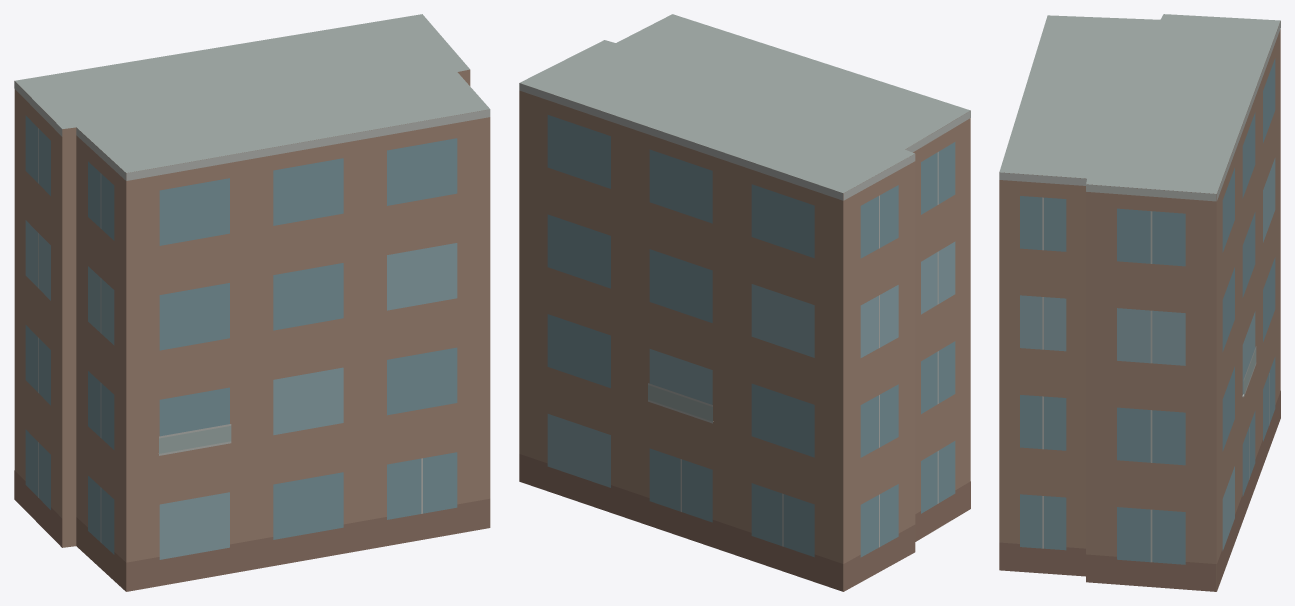
File: survey-upis-32557141.glb
3 views of the same model, side by side, from view 1: azimuth 30°, elevation 25°; view 2: azimuth 150°, elevation 25°; view 3: azimuth 270°, elevation 25° (orthographic). The views are drawn at different scales.
Visible parts, largest first — view 1: survey-upis-32557141.tmp; view 2: survey-upis-32557141.tmp; view 3: survey-upis-32557141.tmp.
Part boxes in pixels (left/top/right/bottom): survey-upis-32557141.tmp: left=14, top=14, right=490, bottom=591; survey-upis-32557141.tmp: left=519, top=14, right=970, bottom=591; survey-upis-32557141.tmp: left=999, top=14, right=1280, bottom=591.
Bounding box in the file's own units: 12.52 × 12.9 × 8.28.
